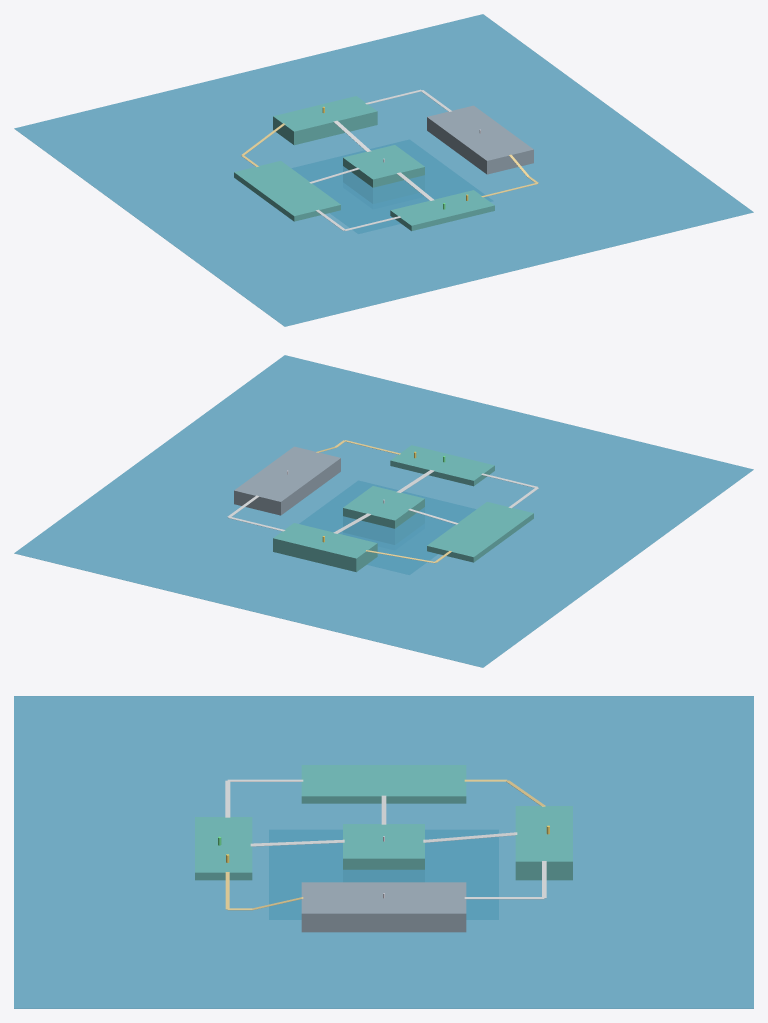
The model's file is greybox.glb.
3 views of the same model, one above another, from view 1: azimuth 30°, elevation 25°; view 2: azimuth 150°, elevation 25°; view 3: azimuth 270°, elevation 25° (orthographic). The views are drawn at different scales.
Parts seen in each view (by area): view 1: SEA, ZONE_scriptorium, ZONE_salvage, ZONE_dome, ZONE_speaker, ZONE_dock; view 2: SEA, ZONE_scriptorium, ZONE_salvage, ZONE_dome, ZONE_speaker, ZONE_dock; view 3: SEA, ZONE_scriptorium, ZONE_salvage, ZONE_dome, ZONE_speaker, ZONE_dock.
Boxes of the visible parts, x1,y1,x2,y2 form: SEA: (14, 14, 753, 326); ZONE_scriptorium: (427, 105, 533, 174); ZONE_salvage: (234, 161, 340, 221); ZONE_dome: (343, 145, 424, 203); ZONE_speaker: (273, 96, 377, 145); ZONE_dock: (390, 190, 494, 231); SEA: (14, 355, 753, 667); ZONE_scriptorium: (234, 446, 340, 515); ZONE_salvage: (427, 502, 533, 562); ZONE_dome: (343, 486, 424, 544); ZONE_speaker: (273, 523, 377, 572); ZONE_dock: (390, 445, 494, 486); SEA: (14, 696, 753, 1008); ZONE_scriptorium: (301, 882, 466, 932); ZONE_salvage: (301, 765, 466, 803); ZONE_dome: (343, 824, 424, 881); ZONE_speaker: (515, 806, 572, 880); ZONE_dock: (195, 817, 252, 880).
Bounding box in the file's own units: 900 × 75 × 900.
